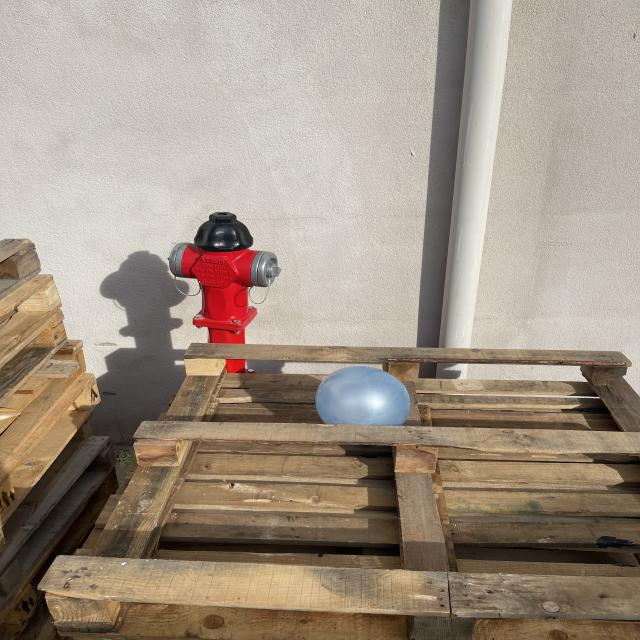balloon: (315, 366, 410, 425)
